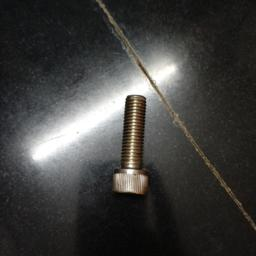screwtype1silver: (112, 94, 153, 198)
